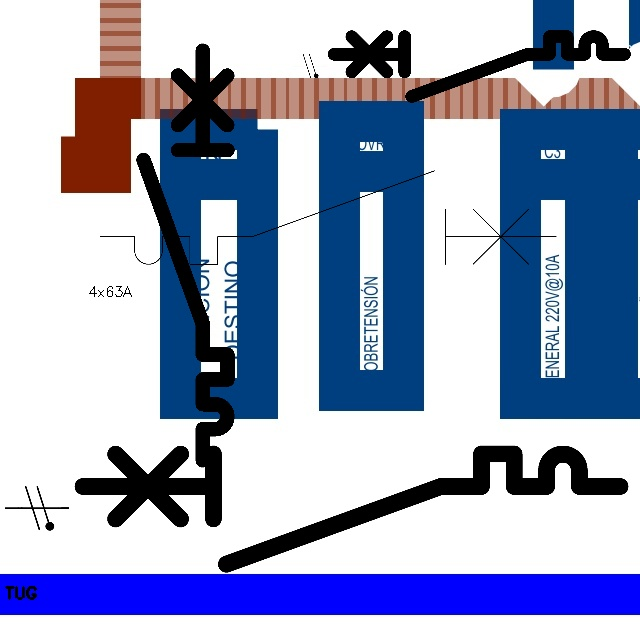interruptor_termomagnetico: (68, 440, 633, 578), (88, 159, 568, 276), (133, 40, 238, 471), (326, 29, 632, 104)
